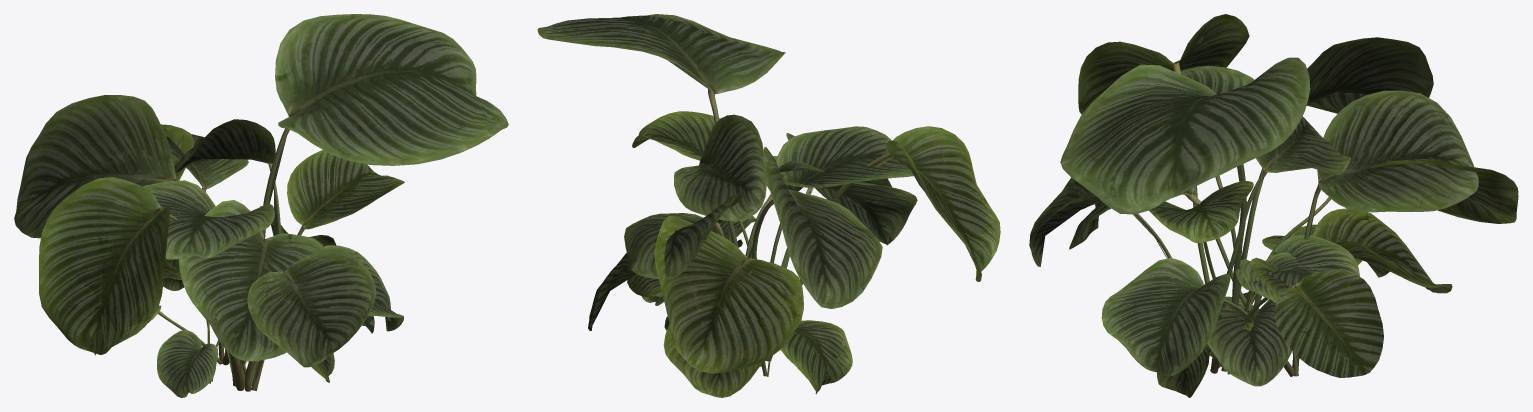
Rendered from calathea_orbifolia_01.glb.
The picture shows the model from 3 angles, left to right: view 1: azimuth 30°, elevation 25°; view 2: azimuth 150°, elevation 25°; view 3: azimuth 270°, elevation 25°; orthographic projection. The views are drawn at different scales.
Visible parts, largest first — view 1: calathea_orbifolia_01_a, calathea_orbifolia_01_a_lo, calathea_orbifolia_01_b, calathea_orbifolia_01_c, calathea_orbifolia_01_c_lo, calathea_orbifolia_01_b_lo, calathea_orbifolia_01_d, calathea_orbifolia_01_d_lo, calathea_orbifolia_01_e; view 2: calathea_orbifolia_01_a, calathea_orbifolia_01_a_lo, calathea_orbifolia_01_b_lo, calathea_orbifolia_01_c, calathea_orbifolia_01_b, calathea_orbifolia_01_c_lo; view 3: calathea_orbifolia_01_a, calathea_orbifolia_01_a_lo, calathea_orbifolia_01_b, calathea_orbifolia_01_b_lo, calathea_orbifolia_01_c, calathea_orbifolia_01_c_lo, calathea_orbifolia_01_d, calathea_orbifolia_01_d_lo, calathea_orbifolia_01_e_lo, calathea_orbifolia_01_e.
Boxes of the visible parts, x1,y1,x2,y2 form: calathea_orbifolia_01_a: (14, 14, 508, 391); calathea_orbifolia_01_a_lo: (16, 15, 489, 390); calathea_orbifolia_01_b: (94, 134, 403, 365); calathea_orbifolia_01_c: (143, 150, 404, 386); calathea_orbifolia_01_c_lo: (143, 150, 403, 384); calathea_orbifolia_01_b_lo: (95, 136, 403, 362); calathea_orbifolia_01_d: (157, 272, 219, 397); calathea_orbifolia_01_d_lo: (158, 272, 219, 396); calathea_orbifolia_01_e: (164, 259, 334, 386); calathea_orbifolia_01_a: (537, 14, 1000, 373); calathea_orbifolia_01_a_lo: (538, 14, 999, 367); calathea_orbifolia_01_b_lo: (624, 156, 917, 391); calathea_orbifolia_01_c: (632, 111, 913, 397); calathea_orbifolia_01_b: (624, 162, 916, 394); calathea_orbifolia_01_c_lo: (633, 117, 913, 396); calathea_orbifolia_01_a: (1029, 14, 1518, 377); calathea_orbifolia_01_a_lo: (1034, 14, 1516, 377); calathea_orbifolia_01_b: (1069, 90, 1478, 376); calathea_orbifolia_01_b_lo: (1070, 91, 1476, 375); calathea_orbifolia_01_c: (1150, 66, 1452, 358); calathea_orbifolia_01_c_lo: (1149, 67, 1451, 357); calathea_orbifolia_01_d: (1207, 292, 1292, 386); calathea_orbifolia_01_d_lo: (1207, 294, 1291, 386); calathea_orbifolia_01_e_lo: (1158, 227, 1389, 397); calathea_orbifolia_01_e: (1157, 224, 1389, 397).
Size of the model in its own units: 0.6006 by 0.4243 by 0.5257.
Materials: 1 (1 with a texture image).
